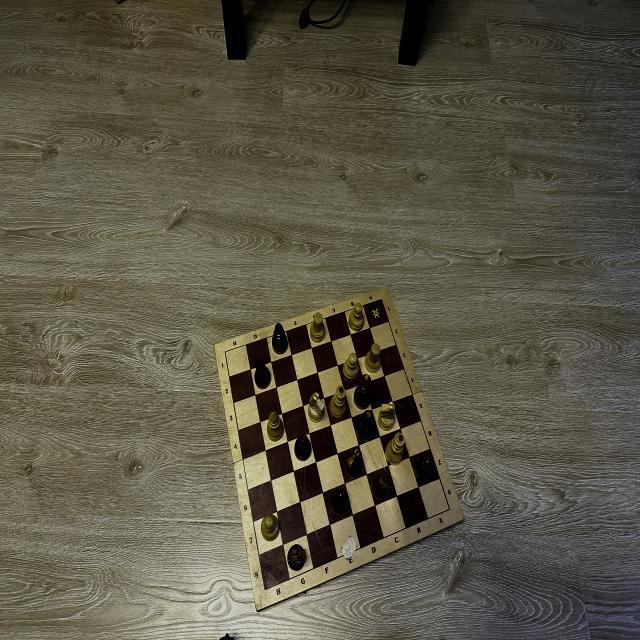chess-table-corners: (262, 586, 268, 594), (379, 296, 384, 302), (447, 506, 452, 512), (222, 350, 228, 354)
